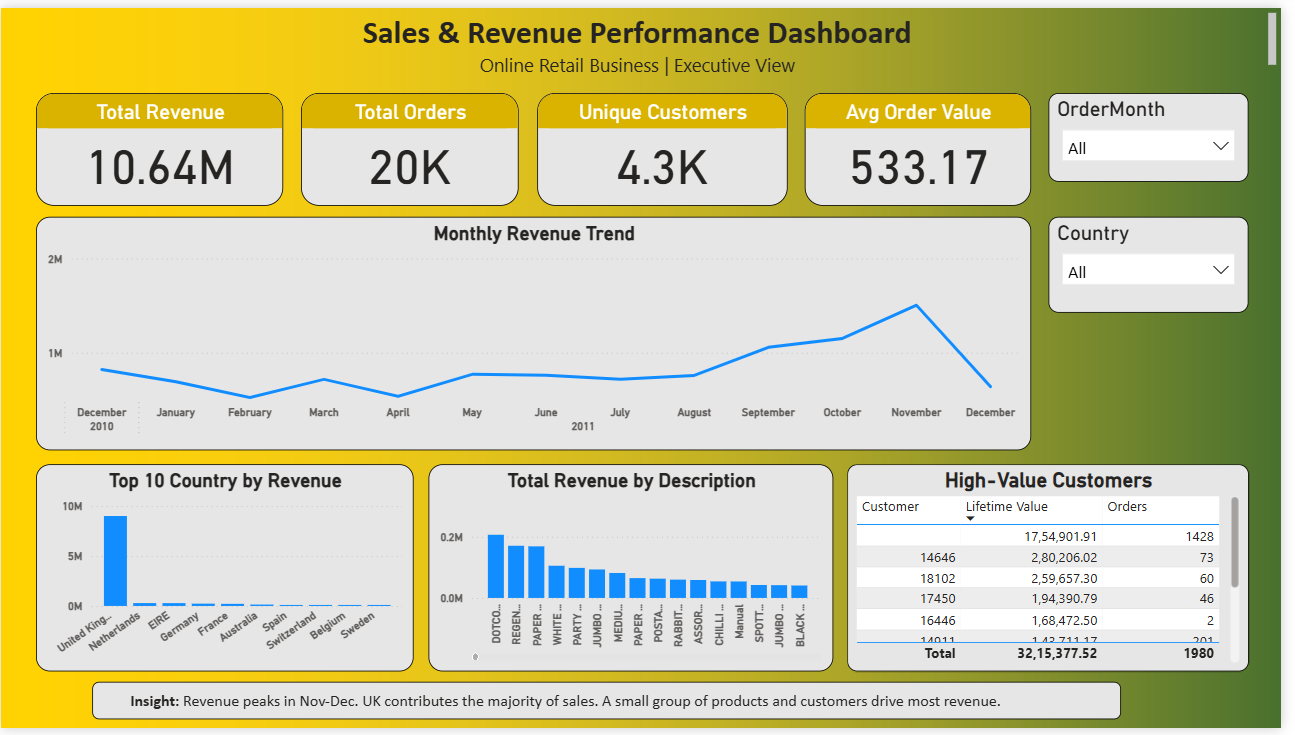

This screenshot's page, from the dashboard's own definition file:
{"tool":"powerbi","page":{"name":"Dashboard","canvas":[1280,720],"ordinal":0},"visuals":[{"type":"textbox","box":[0,0,1280,75],"z":0},{"type":"textbox","box":[91.2,673.8,1028.8,37.5],"z":1000},{"type":"card","title":"Total Revenue","fields":{"Values":["retail_analytics_ready.Total Revenue"]},"box":[35,85,247.5,112.5],"z":2000},{"type":"card","title":"Total Orders","fields":{"Values":["retail_analytics_ready.Total Orders"]},"box":[300.3,85,217.5,112.5],"z":3000},{"type":"card","title":"Unique Customers","fields":{"Values":["retail_analytics_ready.Unique Customers"]},"box":[535.6,85,250,112.5],"z":4000},{"type":"card","title":"Avg Order Value","fields":{"Values":["retail_analytics_ready.Average Order Value"]},"box":[803.4,85,226.2,112.5],"z":5000},{"type":"slicer","title":"OrderMonth","fields":{"Values":["retail_analytics_ready.OrderMonth"]},"box":[1047.5,85,200,88.8],"z":6000},{"type":"slicer","title":"Country","fields":{"Values":["retail_analytics_ready.Country"]},"box":[1047.5,208.8,200,96.2],"z":7000},{"type":"lineChart","title":"Monthly Revenue Trend","fields":{"Y":["retail_analytics_ready.Total Revenue"],"Category":["retail_analytics_ready.OrderMonth.Variation.Date Hierarchy.Year","retail_analytics_ready.OrderMonth.Variation.Date Hierarchy.Month"]},"box":[35,208.8,995,233.8],"z":8000},{"type":"columnChart","title":"Top 10 Country by Revenue","fields":{"Y":["retail_analytics_ready.Total Revenue"],"Category":["retail_analytics_ready.Country"]},"box":[35,456.2,377.5,207.5],"z":9000},{"type":"columnChart","fields":{"Y":["retail_analytics_ready.Total Revenue"],"Category":["retail_analytics_ready.Description"]},"box":[427.5,456.2,405,207.5],"z":10000},{"type":"tableEx","title":"High-Value Customers","fields":{"Values":["retail_analytics_ready.CustomerID","retail_analytics_ready.Total Revenue","retail_analytics_ready.Total Orders"]},"box":[846.2,456.2,401.2,207.5],"z":11000}]}

Visuals, with their boxes in screenshot pixels (x1, y1, x2, y2), scaled from the page's 1280x720 canvas onto the 1295x735 screenshot:
textbox: <box>0,0,1294,77</box>
textbox: <box>92,688,1133,726</box>
"Total Revenue" card: <box>35,87,286,202</box>
"Total Orders" card: <box>304,87,524,202</box>
"Unique Customers" card: <box>542,87,795,202</box>
"Avg Order Value" card: <box>813,87,1042,202</box>
"OrderMonth" slicer: <box>1060,87,1262,177</box>
"Country" slicer: <box>1060,213,1262,311</box>
"Monthly Revenue Trend" lineChart: <box>35,213,1042,452</box>
"Top 10 Country by Revenue" columnChart: <box>35,466,417,678</box>
columnChart - retail_analytics_ready.Total Revenue x retail_analytics_ready.Description: <box>433,466,842,678</box>
"High-Value Customers" tableEx: <box>856,466,1262,678</box>
